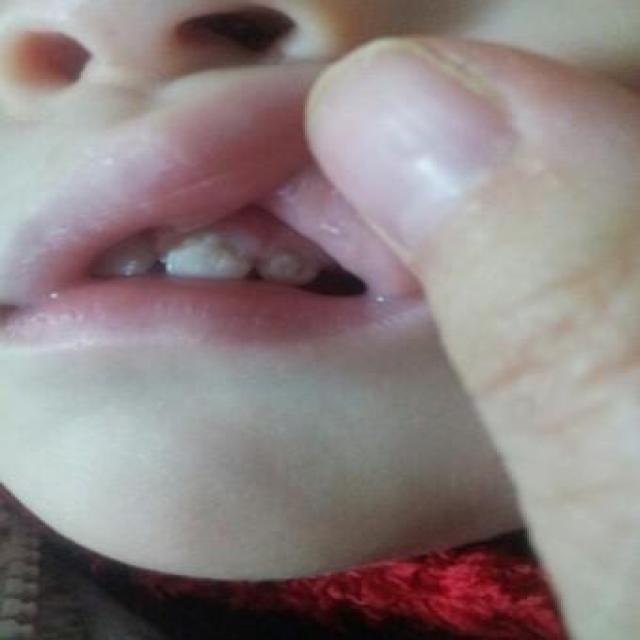Tooth: (166, 229, 254, 278), (254, 246, 322, 285), (90, 235, 156, 275)
